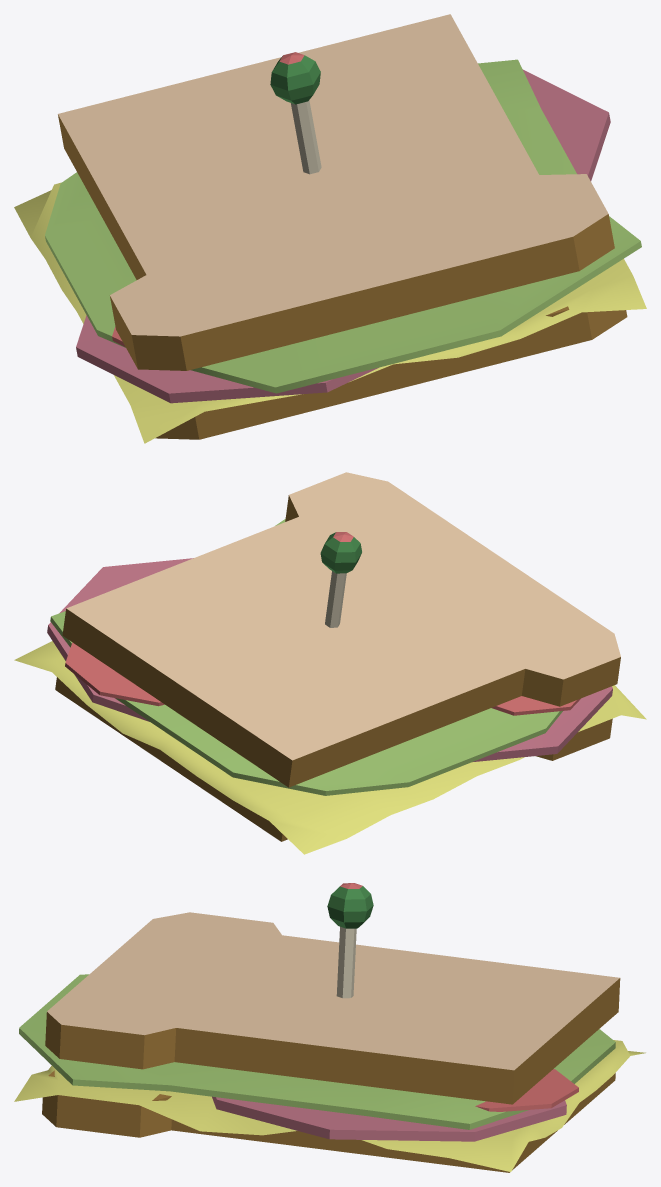
Rendered from Saduche.fbx.
The picture shows the model from 3 angles, top to bottom: view 1: azimuth 30°, elevation 25°; view 2: azimuth 150°, elevation 25°; view 3: azimuth 270°, elevation 25°; orthographic projection. The views are drawn at different scales.
Parts seen in each view (by area): view 1: pCube3, pCube2, pCube1, pPlane1, pCylinder2, pCylinder1, pSphere1, pCylinder5; view 2: pCube3, pPlane1, pCube2, pCube1, pCylinder1, pCylinder2, pCylinder3, pSphere1, pCylinder4, pCylinder5; view 3: pCube3, pCube2, pPlane1, pCube1, pCylinder1, pCylinder3, pSphere1, pCylinder5.
Boxes of the visible parts, box(x1,y1,x2,y2) form: pCube3: box(58, 14, 614, 370); pCube2: box(45, 59, 641, 393); pCube1: box(155, 306, 627, 439); pPlane1: box(14, 182, 646, 443); pCylinder2: box(76, 315, 378, 403); pCylinder1: box(523, 69, 610, 180); pSphere1: box(270, 52, 320, 104); pCylinder5: box(291, 100, 321, 174); pCube3: box(62, 472, 620, 787); pPlane1: box(14, 641, 646, 854); pCube2: box(50, 519, 562, 795); pCube1: box(55, 677, 612, 841); pCylinder1: box(47, 558, 193, 721); pCylinder2: box(472, 686, 612, 762); pCylinder3: box(65, 642, 164, 706); pSphere1: box(320, 532, 361, 573); pCylinder4: box(492, 696, 580, 715); pCylinder5: box(325, 571, 346, 627); pCube3: box(45, 912, 620, 1104); pCube2: box(19, 974, 615, 1129); pPlane1: box(14, 1040, 645, 1171); pCube1: box(42, 1070, 615, 1172); pCylinder1: box(212, 1096, 566, 1141); pCylinder3: box(475, 1069, 578, 1111); pSphere1: box(327, 883, 373, 928); pCylinder5: box(336, 926, 356, 998).
Bounding box in the file's own units: 9.39 × 4.06 × 9.91.
